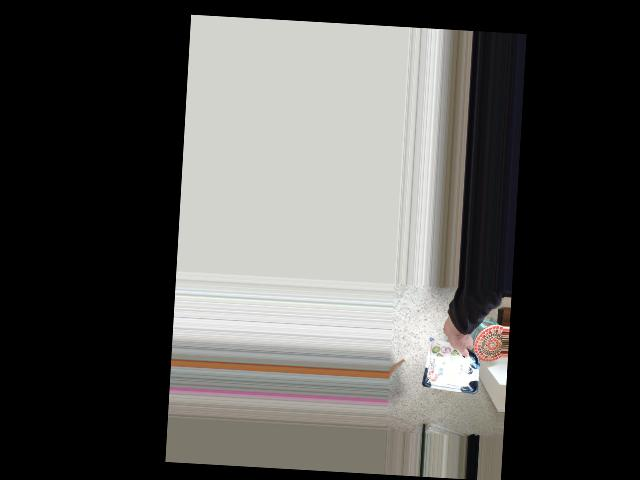cheese: (424, 318, 483, 383)
